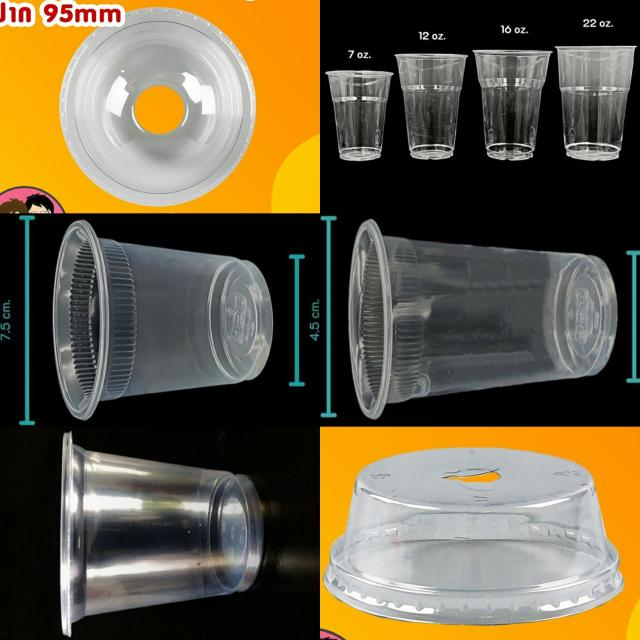plastik: (349, 220, 617, 418), (324, 448, 623, 625), (53, 220, 273, 419), (60, 432, 263, 636), (59, 8, 255, 206), (557, 46, 635, 161), (475, 50, 550, 160), (395, 54, 467, 159), (327, 70, 392, 161)
